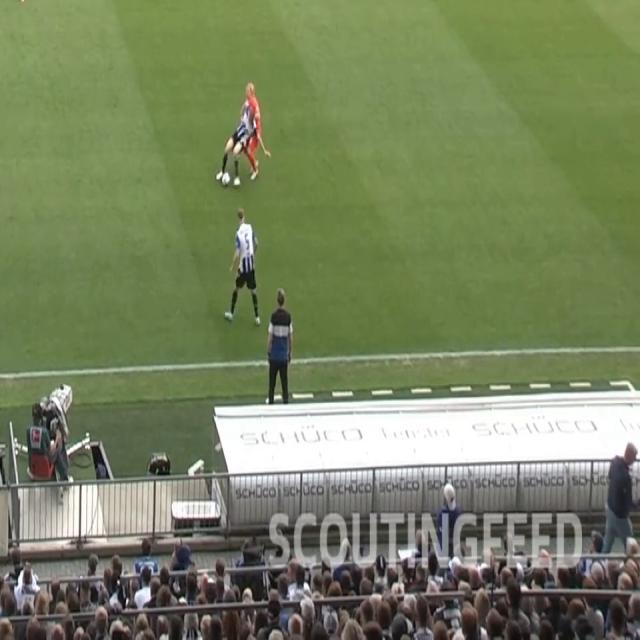ball: (221, 170, 231, 189)
